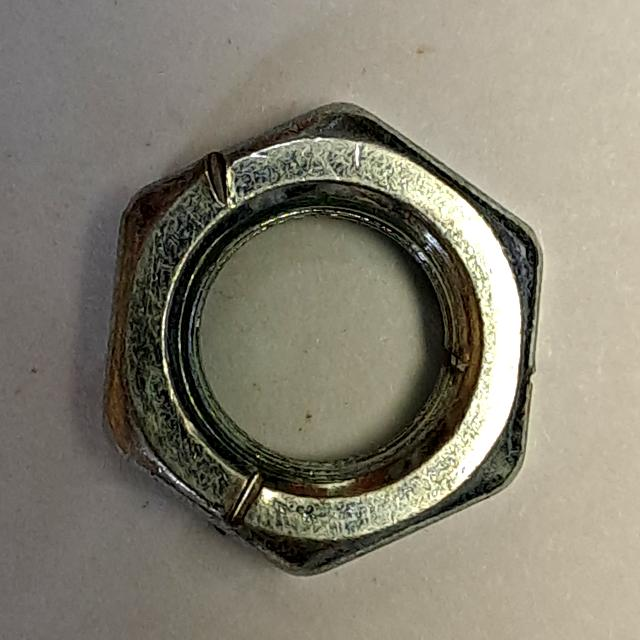Scratches: (88, 89, 560, 592)
